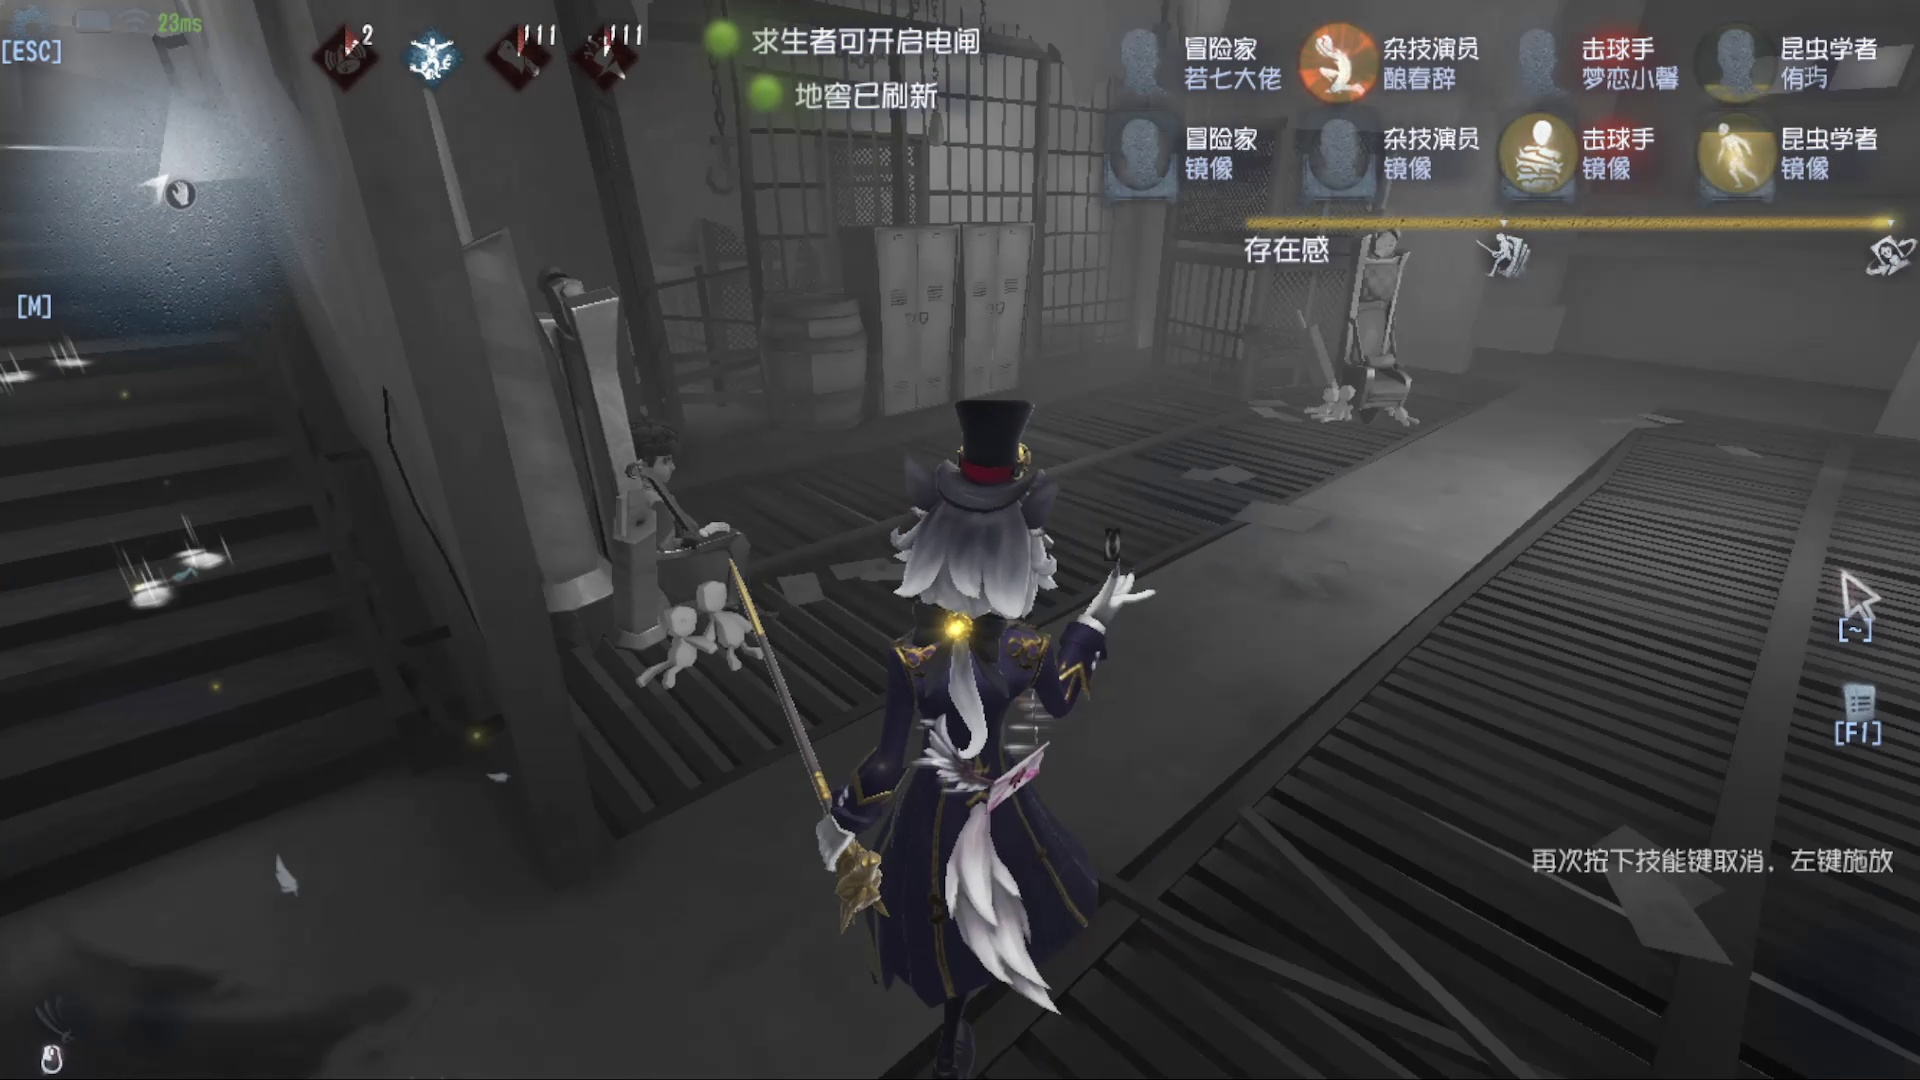狂欢之椅: (1267, 215, 1435, 418)
